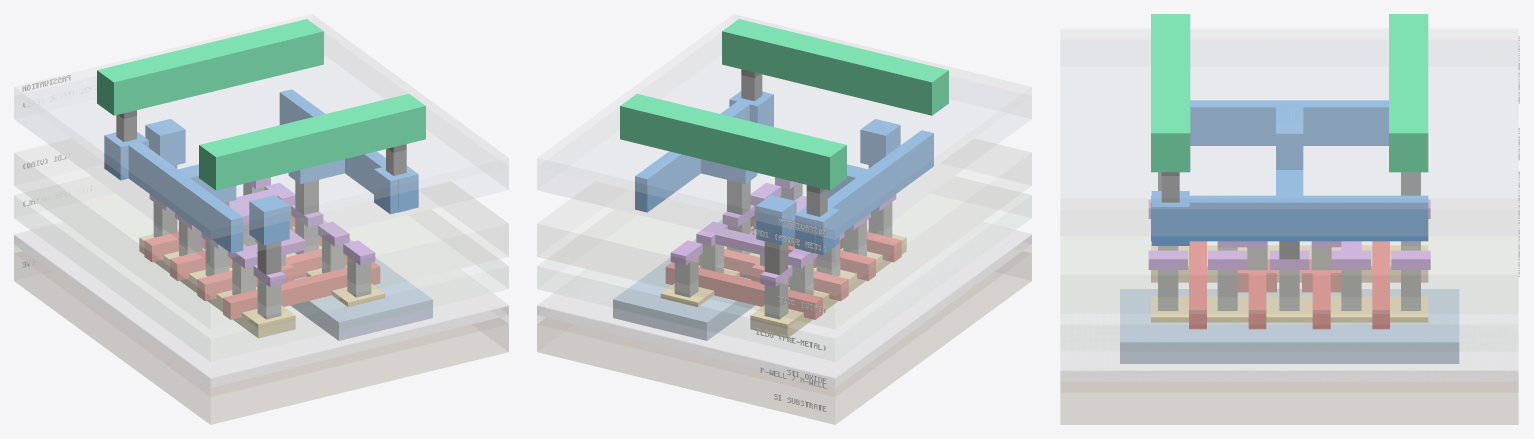
The model's file is bitcell_3d_in_situ.glb.
The picture shows the model from 3 angles, left to right: view 1: azimuth 30°, elevation 25°; view 2: azimuth 150°, elevation 25°; view 3: azimuth 270°, elevation 25°; orthographic projection. The views are drawn at different scales.
Parts seen in each view (by area): view 1: IMD1 (above met1), Passivation, ILD1 (via0), ILD0 (pre-metal), met2, Si substrate, met1, P-well / N-well, Gate oxide, licon, poly, nwell (+5 smaller); view 2: IMD1 (above met1), Passivation, ILD1 (via0), ILD0 (pre-metal), met2, Si substrate, met1, Gate oxide, P-well / N-well, poly, licon, nwell (+5 smaller); view 3: IMD1 (above met1), Passivation, ILD0 (pre-metal), ILD1 (via0), met1, Si substrate, nwell, met2, P-well / N-well, Gate oxide, poly, diff (+5 smaller).
Boxes of the visible parts, box(x1,y1,x2,y2) form: IMD1 (above met1): box(14, 32, 508, 262); Passivation: box(14, 14, 508, 239); ILD1 (via0): box(14, 139, 508, 328); ILD0 (pre-metal): box(14, 177, 508, 361); met2: box(97, 19, 425, 190); Si substrate: box(14, 251, 508, 424); met1: box(104, 89, 418, 253); P-well / N-well: box(14, 235, 508, 396); Gate oxide: box(14, 224, 508, 377); licon: box(153, 183, 371, 319); poly: box(144, 216, 380, 319); nwell: box(290, 219, 432, 340); IMD1 (above met1): box(537, 32, 1031, 262); Passivation: box(537, 14, 1031, 239); ILD1 (via0): box(537, 139, 1031, 328); ILD0 (pre-metal): box(537, 177, 1031, 361); met2: box(620, 19, 948, 190); Si substrate: box(537, 251, 1031, 424); met1: box(635, 91, 933, 254); Gate oxide: box(537, 223, 1031, 377); P-well / N-well: box(537, 235, 1031, 396); poly: box(665, 216, 901, 319); licon: box(674, 183, 892, 319); nwell: box(613, 219, 755, 340); IMD1 (above met1): box(1061, 40, 1517, 235); Passivation: box(1061, 29, 1517, 208); ILD0 (pre-metal): box(1060, 237, 1518, 351); ILD1 (via0): box(1060, 210, 1518, 313); met1: box(1151, 100, 1428, 245); Si substrate: box(1060, 382, 1518, 424); nwell: box(1120, 289, 1459, 363); met2: box(1151, 14, 1428, 172); P-well / N-well: box(1060, 371, 1518, 392); Gate oxide: box(1061, 315, 1517, 370); poly: box(1189, 241, 1389, 329); diff: box(1151, 245, 1428, 322).
Bounding box in the file's own units: 33.75 × 24.7 × 38.57.
